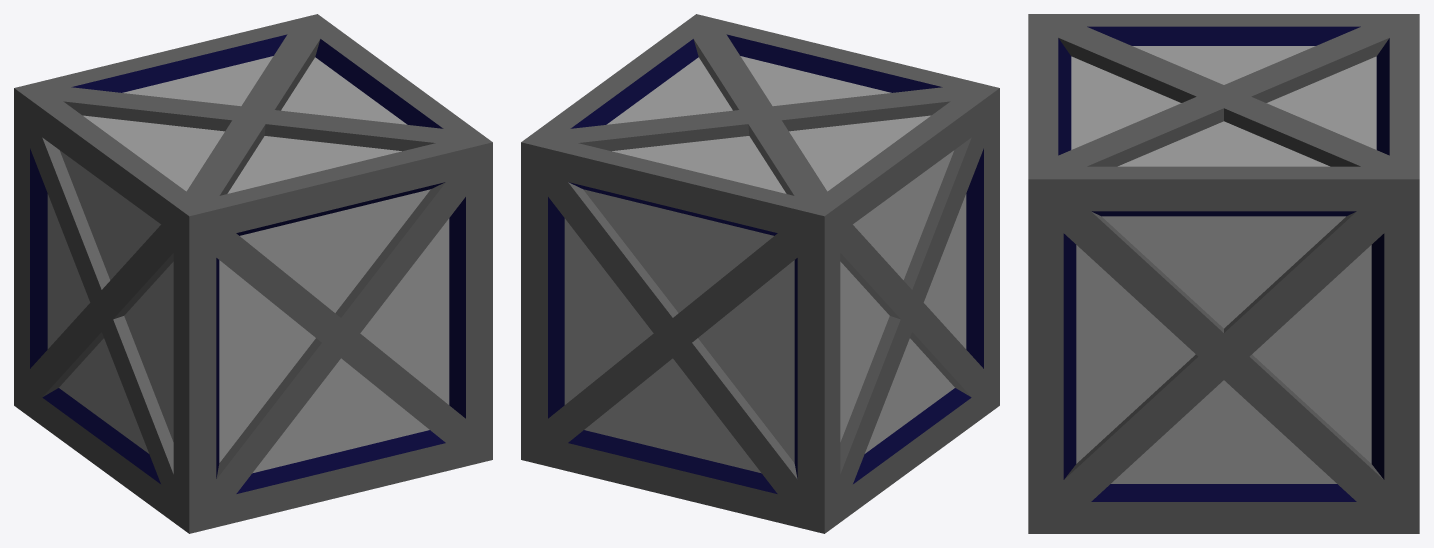
File: wall.gltf
The picture shows the model from 3 angles, left to right: view 1: azimuth 30°, elevation 25°; view 2: azimuth 150°, elevation 25°; view 3: azimuth 270°, elevation 25°; orthographic projection. The views are drawn at different scales.
Visible parts, largest first — view 1: Cube; view 2: Cube; view 3: Cube.
Part boxes in pixels (<box>): Cube: <box>14,14,492,533</box>; Cube: <box>521,14,999,533</box>; Cube: <box>1028,14,1419,533</box>.
Bounding box in the file's own units: 2.17 × 2.17 × 2.17.
